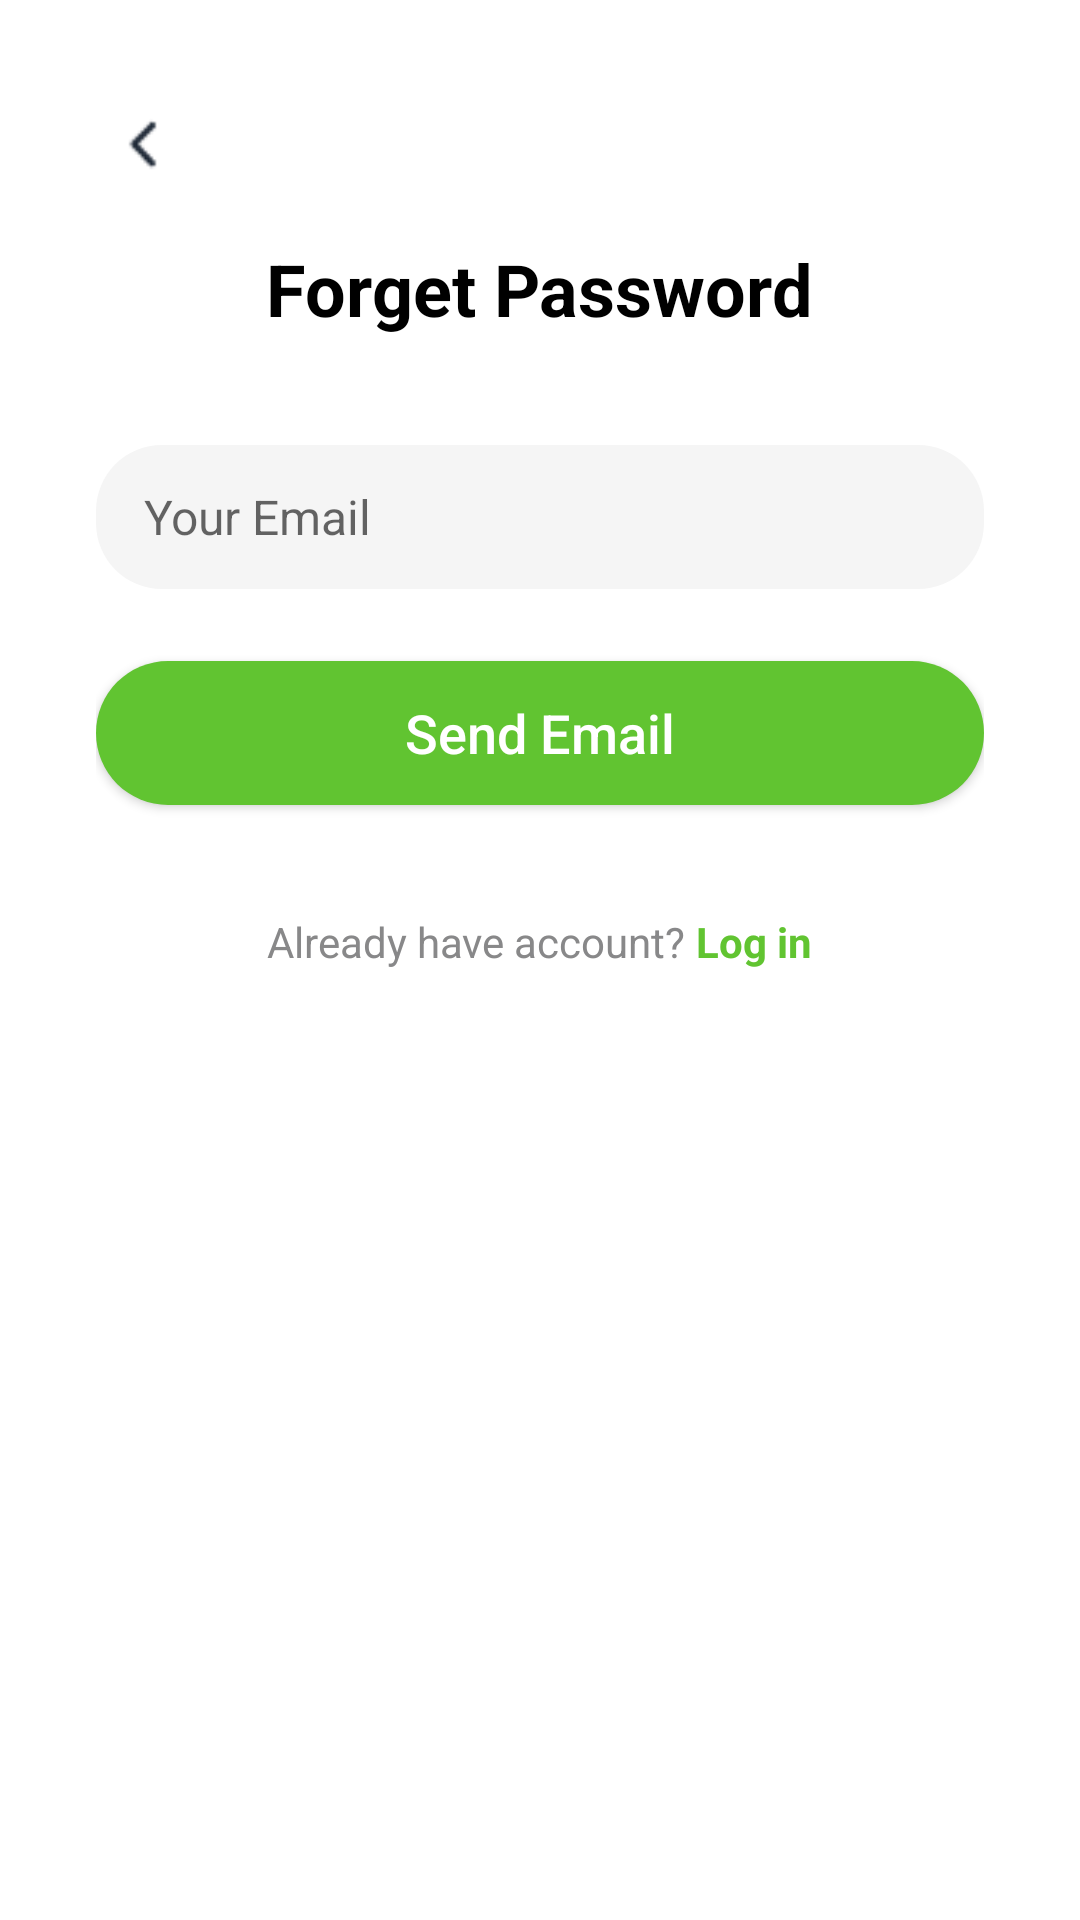

Icons on this 1080px×1920px Android screen, each with the point to tap as [x,y]:
Back: [143,144]
